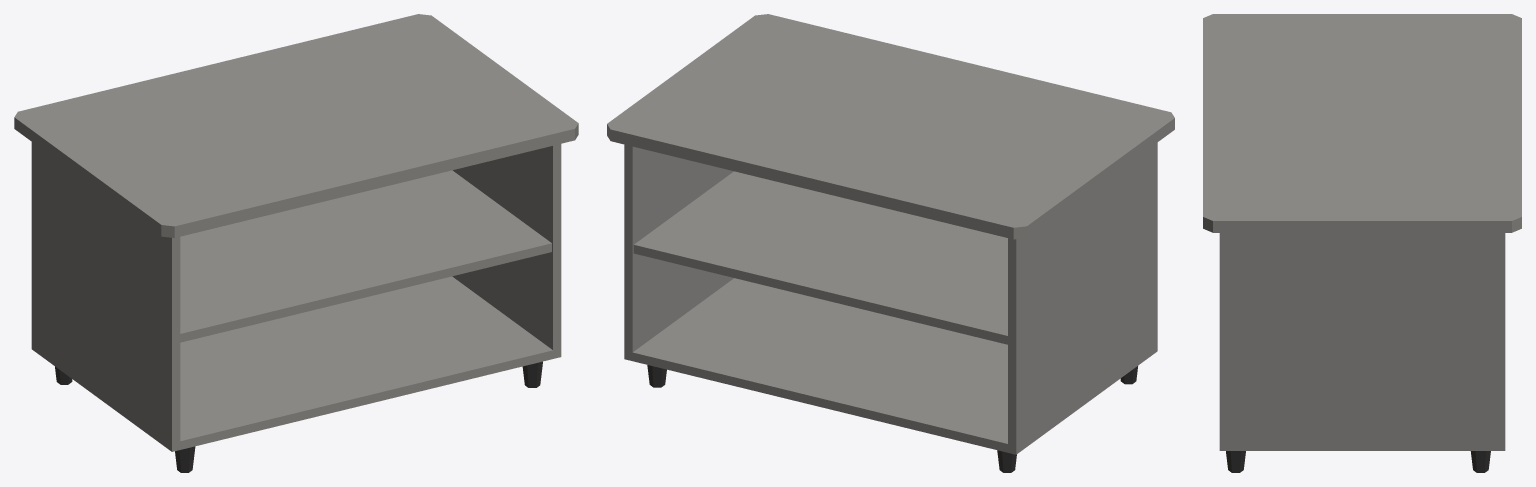
File: SM_Props_Interior_Shop_Restaurant_Kitchen_WorkTable_02.fbx
3 renders of one model, left to right at view 1: azimuth 30°, elevation 25°; view 2: azimuth 150°, elevation 25°; view 3: azimuth 270°, elevation 25°, orthographic.
Visible parts, largest first — view 1: SM_Props_Interior_Shop_Restaurant_Kitchen_WorkTable_02; view 2: SM_Props_Interior_Shop_Restaurant_Kitchen_WorkTable_02; view 3: SM_Props_Interior_Shop_Restaurant_Kitchen_WorkTable_02.
Boxes of the visible parts, x1=… form: SM_Props_Interior_Shop_Restaurant_Kitchen_WorkTable_02: x1=14, y1=14, x2=578, y2=472; SM_Props_Interior_Shop_Restaurant_Kitchen_WorkTable_02: x1=607, y1=14, x2=1174, y2=472; SM_Props_Interior_Shop_Restaurant_Kitchen_WorkTable_02: x1=1203, y1=14, x2=1521, y2=472.
Size of the model in its own units: 150 by 90 by 97.59.
